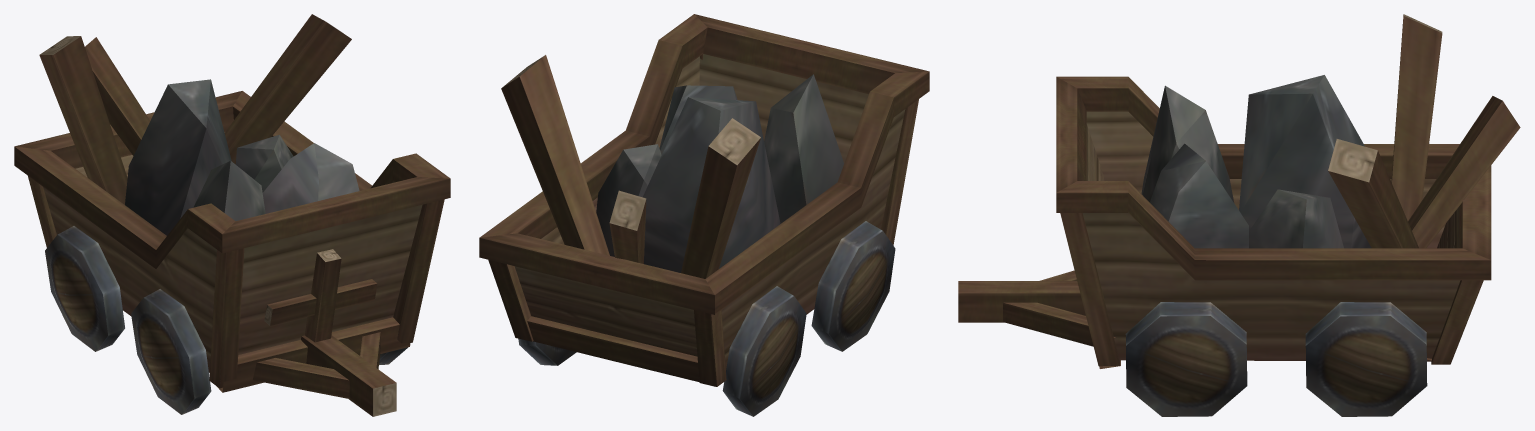
File: hacz_xiaotuiche_01.FBX
3 renders of one model, left to right at view 1: azimuth 30°, elevation 25°; view 2: azimuth 150°, elevation 25°; view 3: azimuth 270°, elevation 25°, orthographic. The views are drawn at different scales.
Visible parts, largest first — view 1: hacz_xiaotuiche_01; view 2: hacz_xiaotuiche_01; view 3: hacz_xiaotuiche_01.
Boxes of the visible parts, x1,y1,x2,y2 form: hacz_xiaotuiche_01: [14, 14, 450, 416]; hacz_xiaotuiche_01: [479, 14, 929, 416]; hacz_xiaotuiche_01: [958, 14, 1520, 416].
Bounding box in the file's own units: 179 × 184 × 308.
